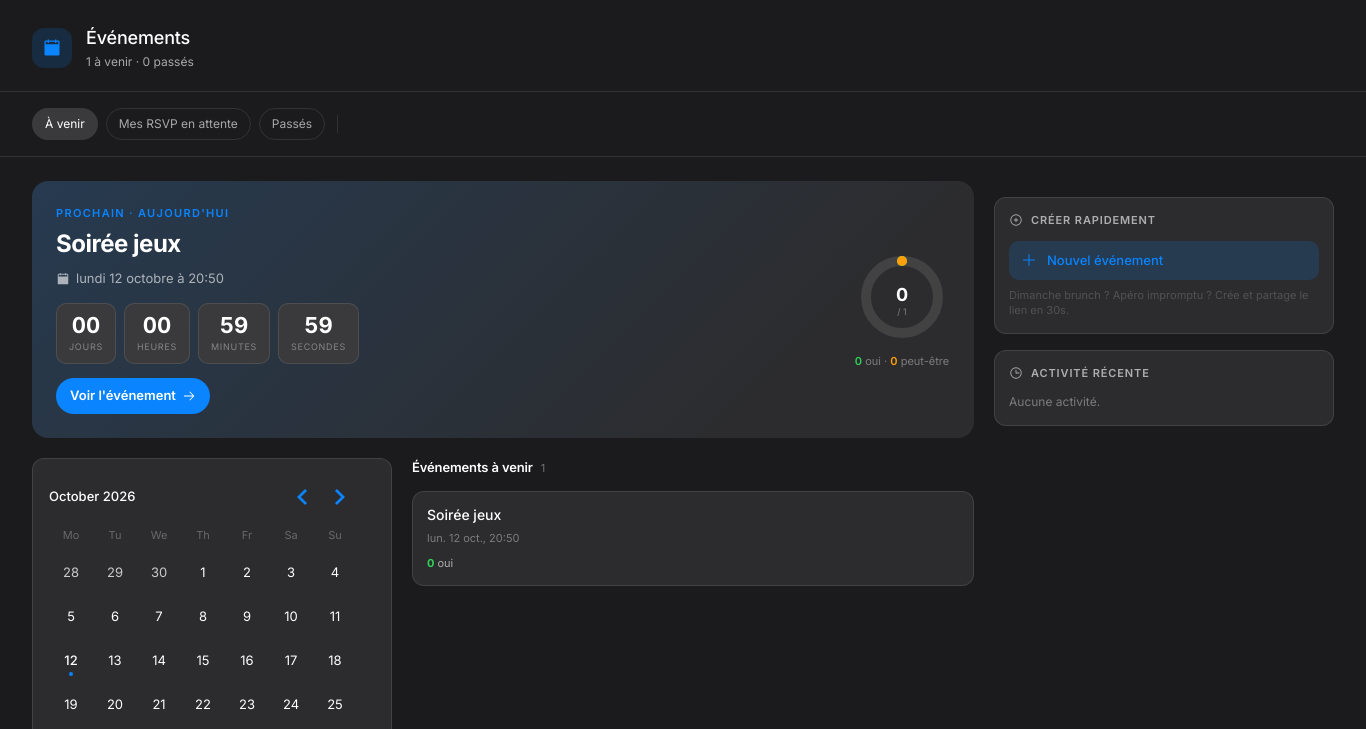
Test: Actions destructives — grisées, jamais masquées (MAN-246) › EventsDashboard › laisse « Supprimer » visible et inerte pour un membre simple qui n'est pas l'auteur
Click the button "Voir l'événement".
click(133, 396)  # box [56,378,210,414]
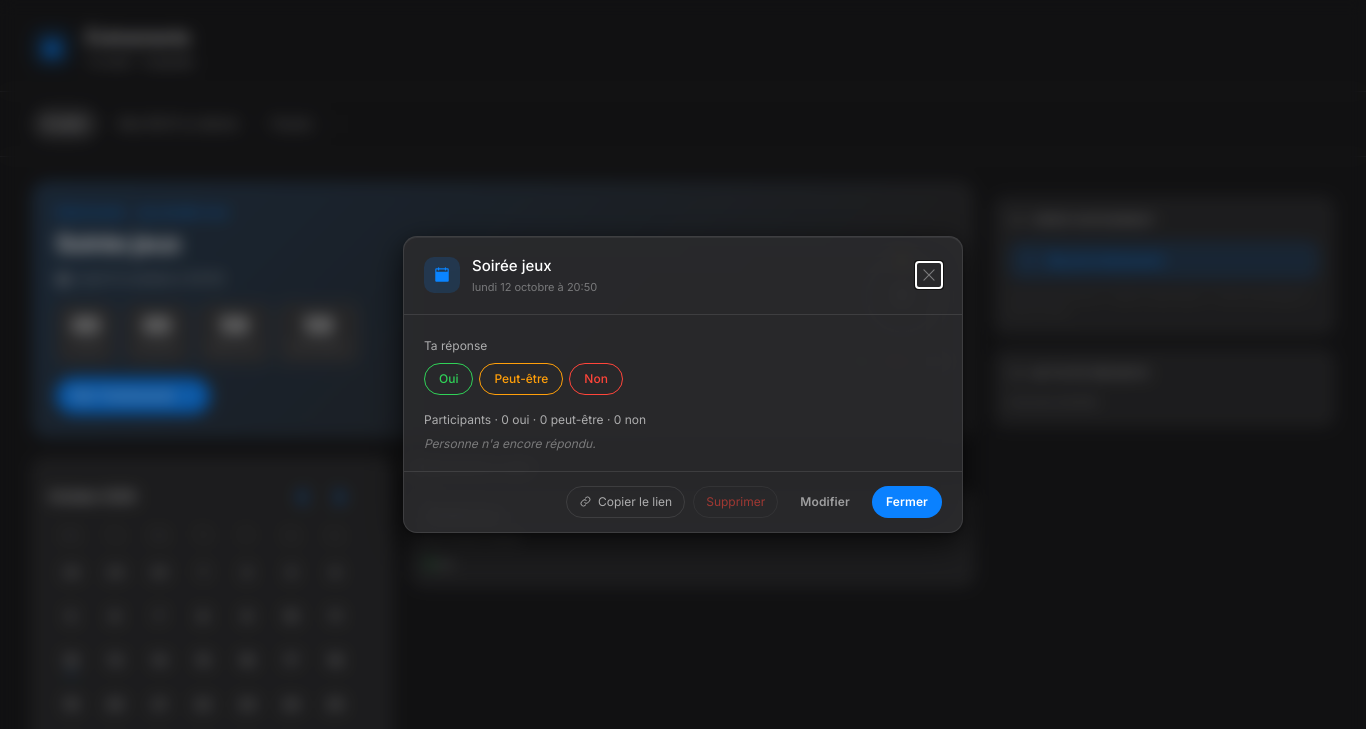
Check: the button "Supprimer" is shown, box [693,486,778,518]
